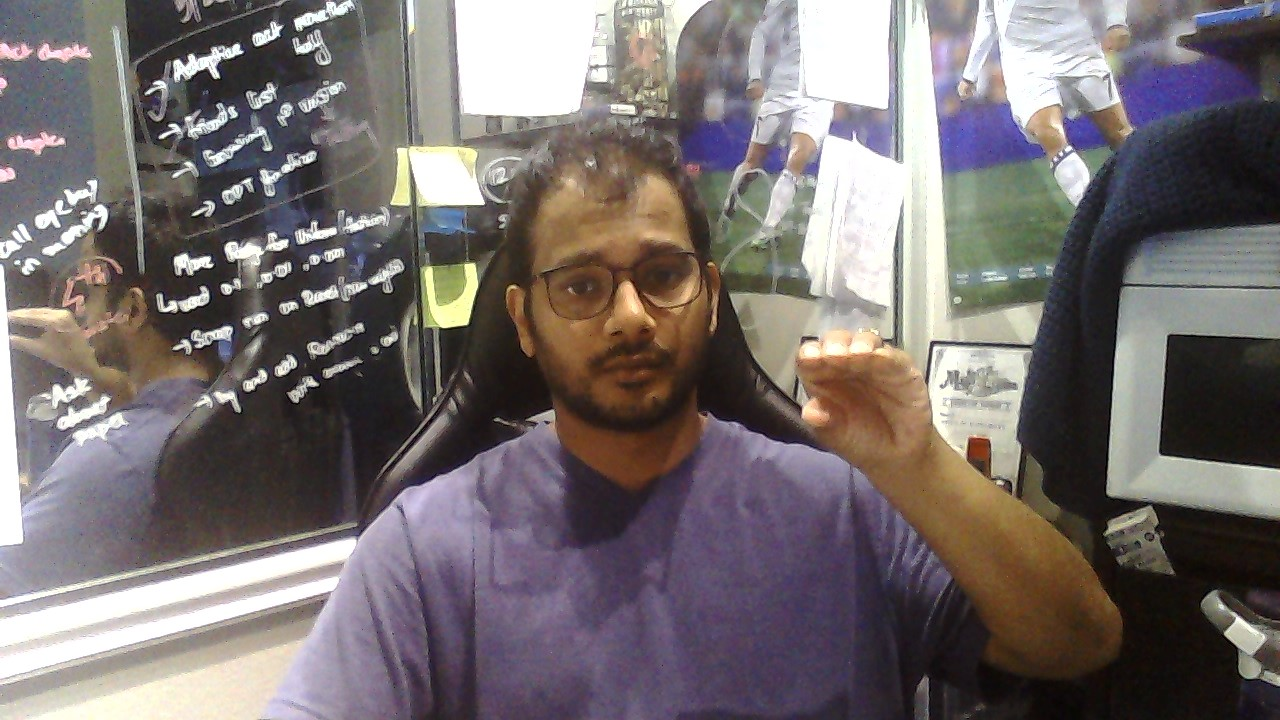No: (796, 327, 932, 464)
